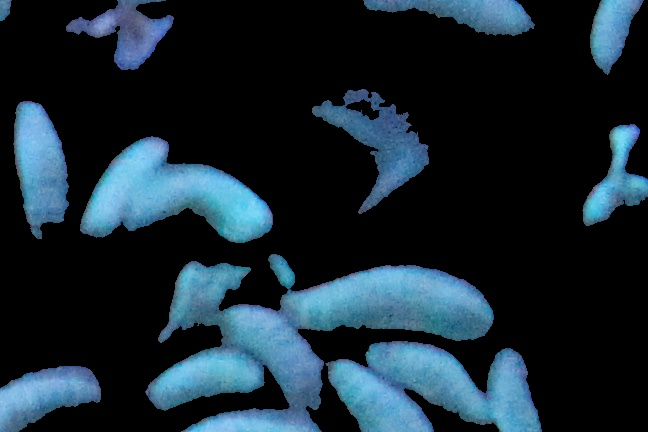larvae: (278, 263, 495, 339), (125, 167, 274, 241), (221, 305, 323, 408), (83, 131, 170, 249), (368, 340, 488, 421), (11, 99, 68, 243), (144, 349, 266, 409), (326, 361, 428, 432), (1, 361, 102, 432), (365, 1, 537, 38), (487, 349, 542, 432), (587, 1, 643, 78), (177, 411, 325, 432)
